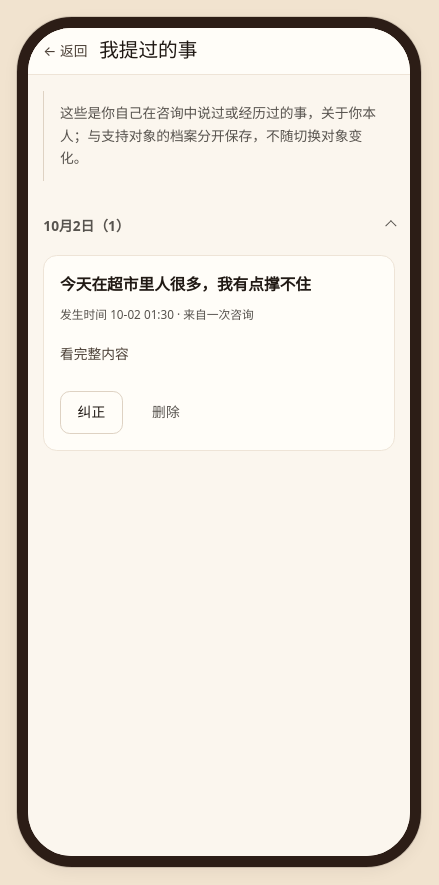
Test: 记忆页 · 纠正 › P0 中间态（旧已撤下、新没写成）逐字呈现前端文案，不笼统报成功或失败
The image size is (439, 885).
Expected: the text "今天在超市里人很多，我有点撑不住" is shown, x1=60 y1=273 x2=311 y2=295
Click the button "纠正" at coordinates (91, 413), box x1=60 y1=391 x2=123 y2=434
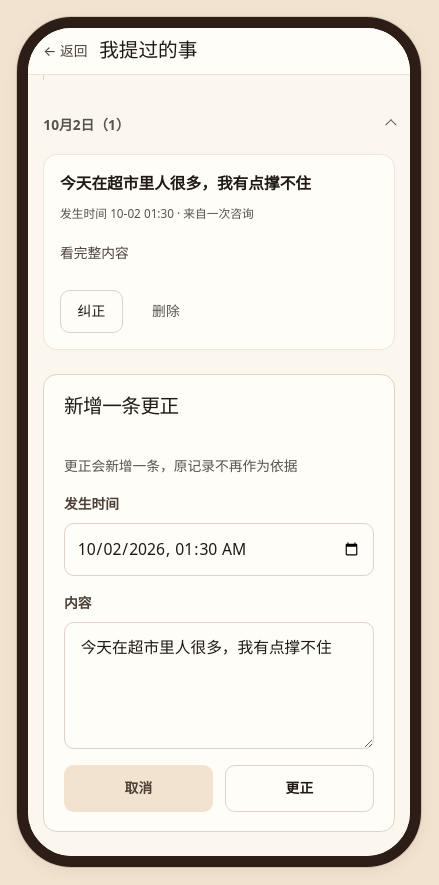
Replace the text in the text box labelled "内容" with "改了一版" at coordinates (219, 685), box x1=64 y1=622 x2=374 y2=749
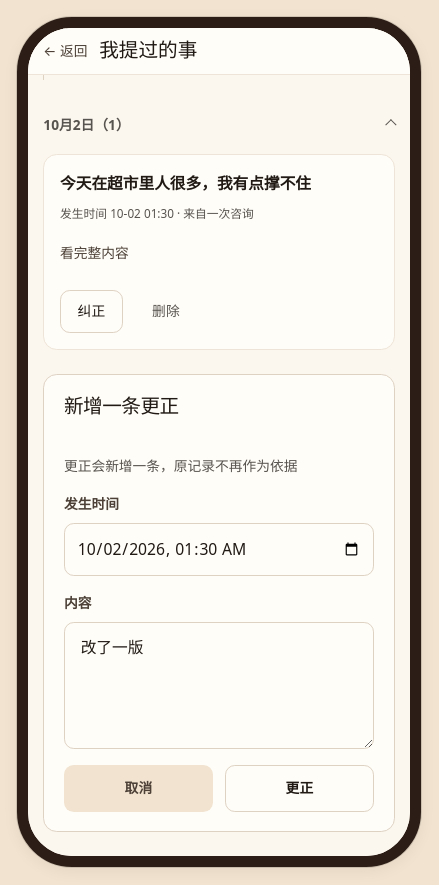
Click the button "更正" at coordinates (300, 788), box x1=225 y1=765 x2=374 y2=812
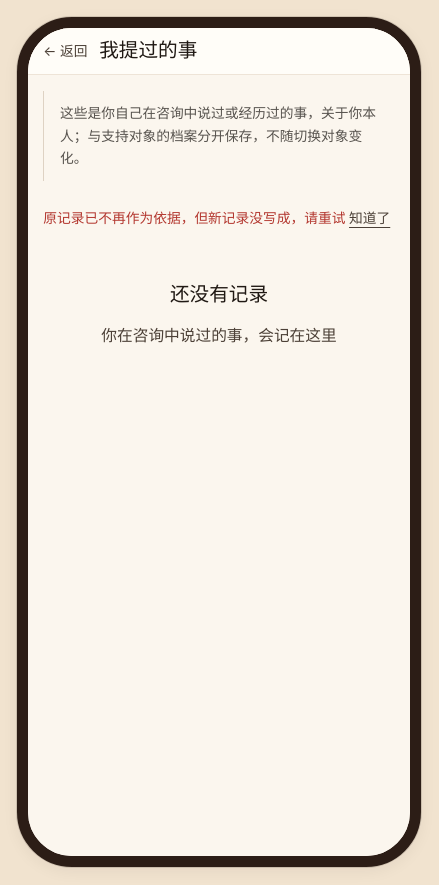
Result: the text "原记录已不再作为依据，但新记录没写成，请重试 知道了" is shown at x1=43 y1=197 x2=395 y2=240
Result: the text "今天在超市里人很多，我有点撑不住" is gone
